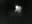person: (16, 5, 23, 16)
